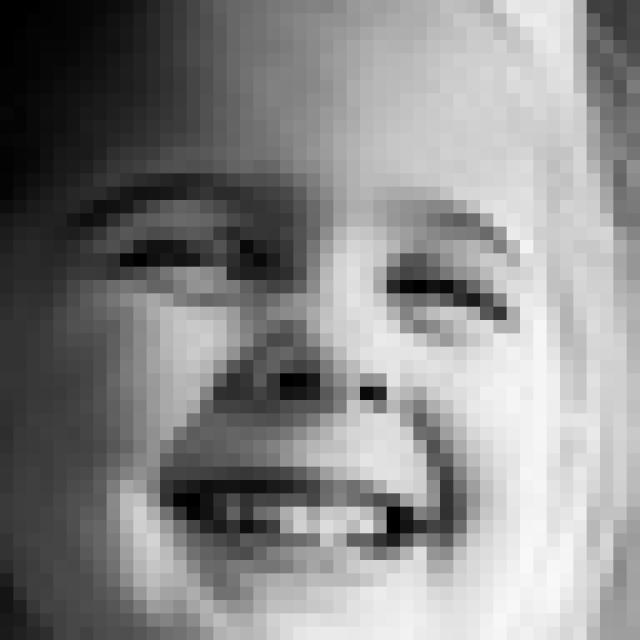happy: (47, 165, 545, 590)
